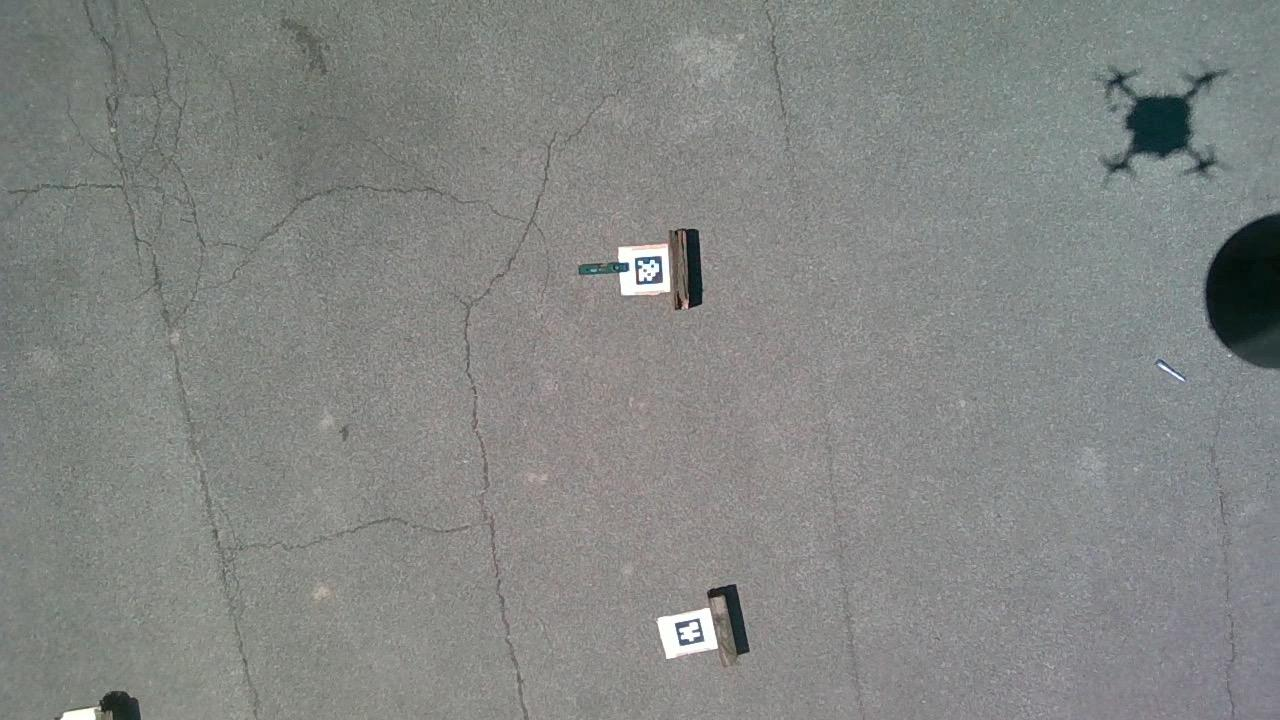probes: (1156, 359, 1186, 383)
